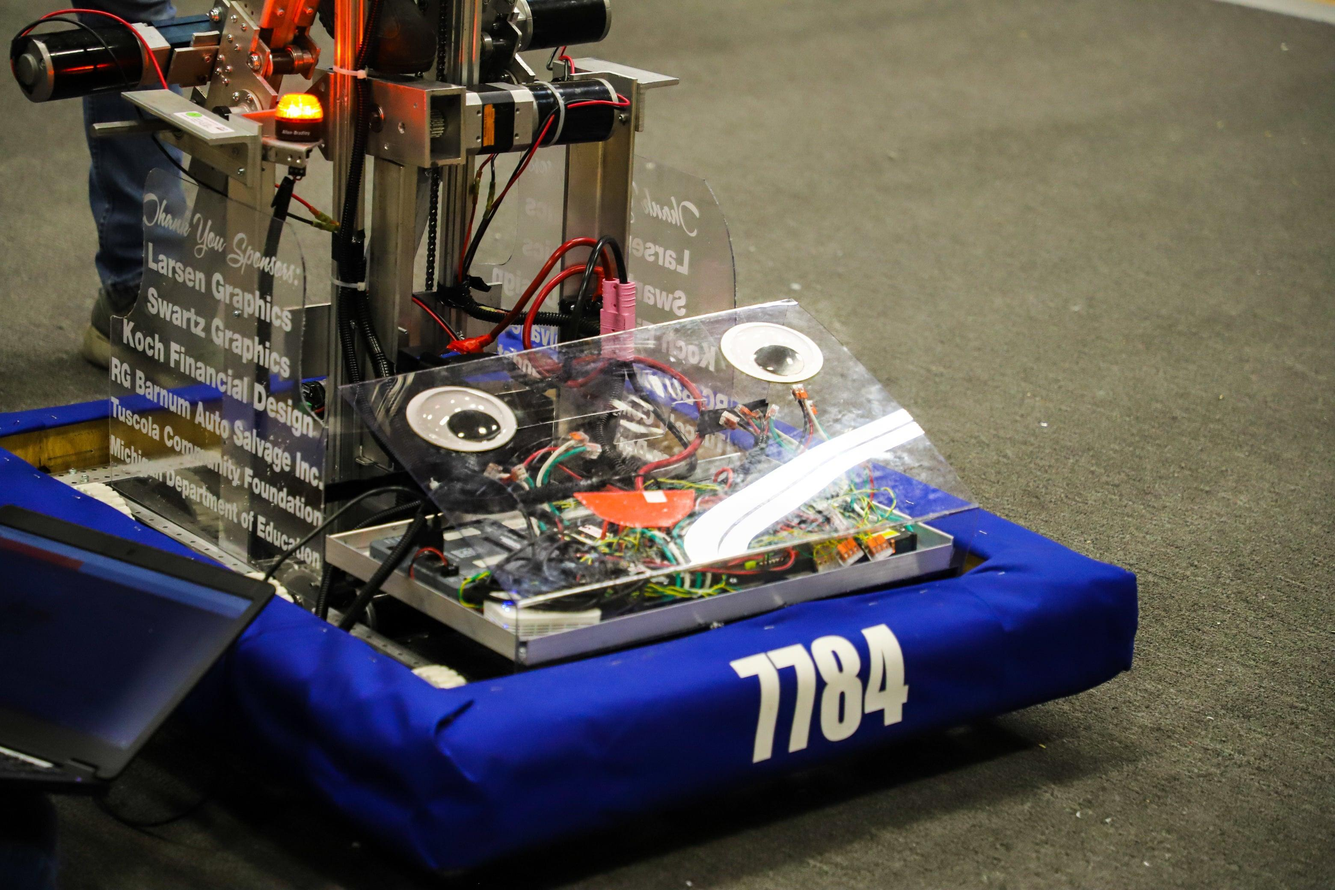robot: (0, 0, 1157, 884)
